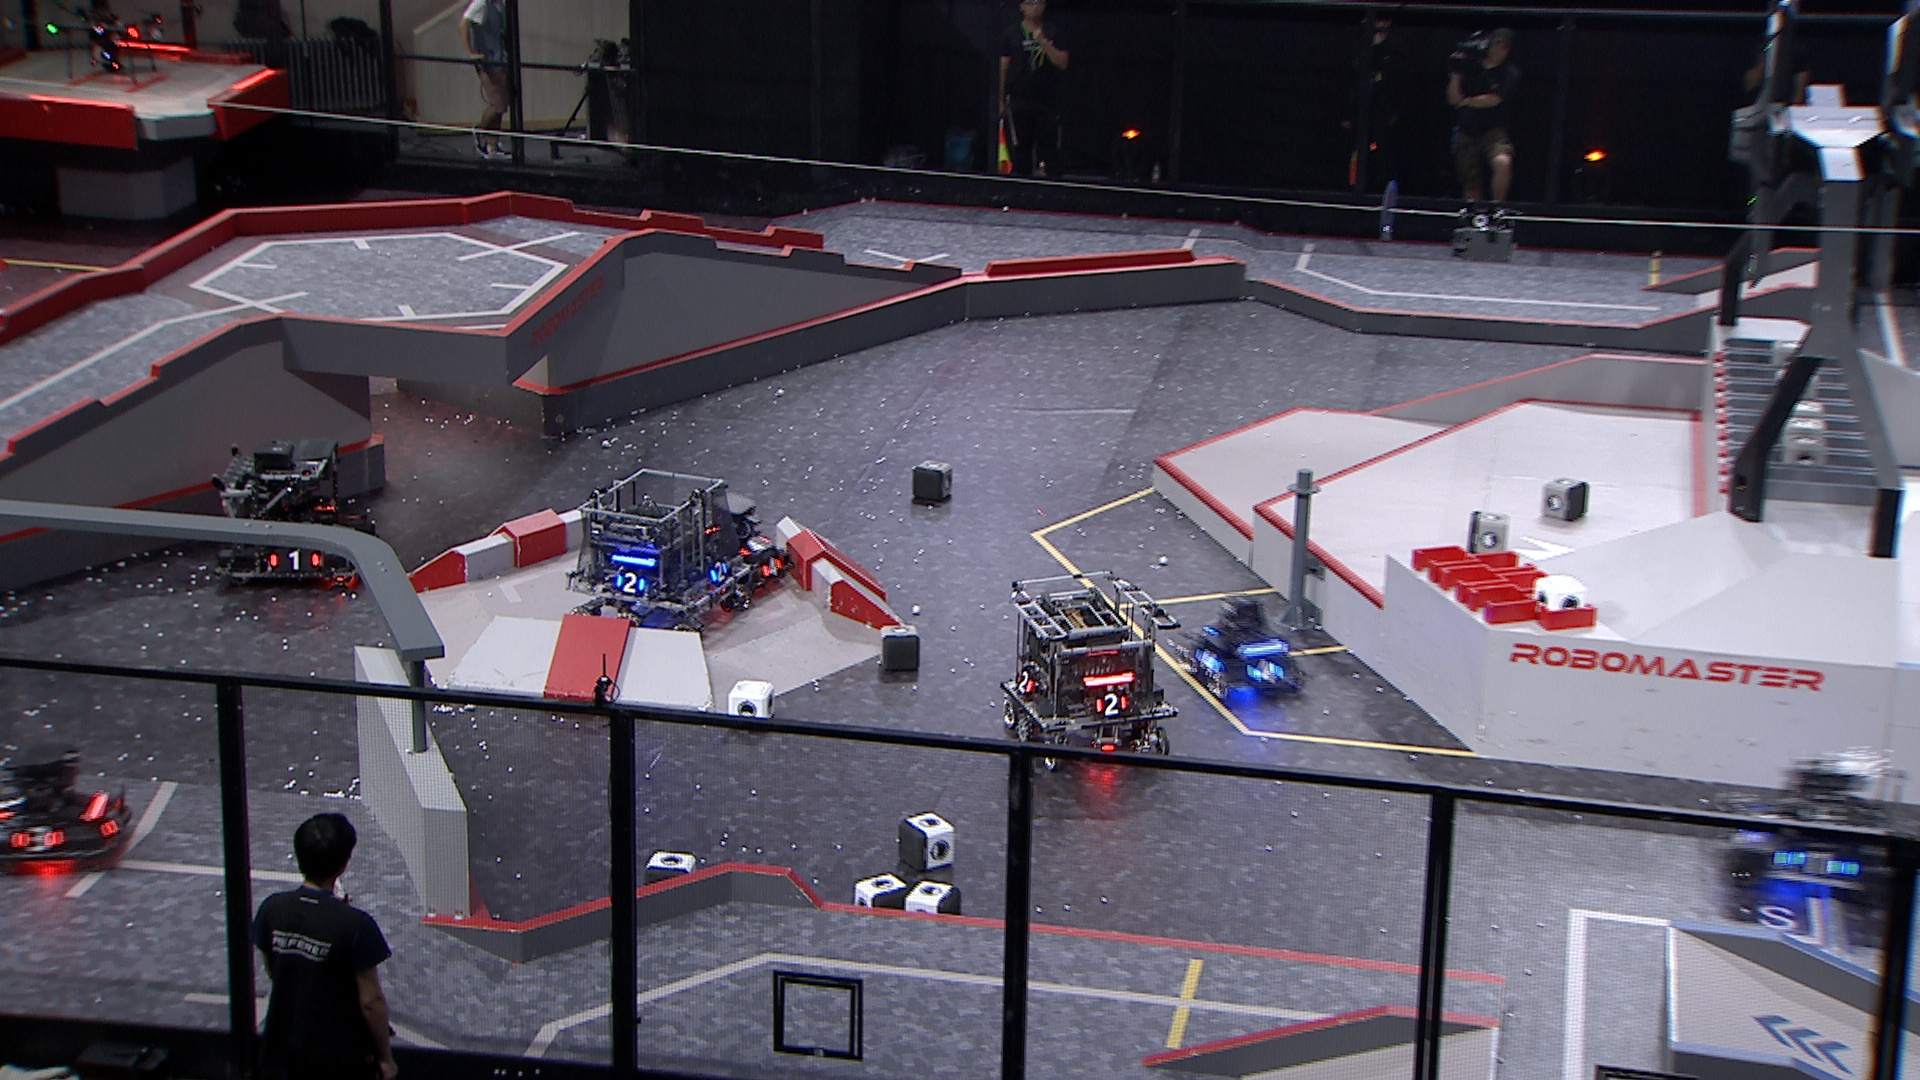armor: (1775, 845, 1859, 882), (8, 825, 65, 855), (266, 546, 320, 574), (1244, 659, 1287, 684), (1093, 690, 1127, 717), (1193, 646, 1222, 676), (737, 533, 773, 556), (615, 572, 647, 595), (1015, 669, 1036, 699), (760, 556, 783, 579), (709, 560, 731, 585)
car: (1000, 568, 1182, 773), (1713, 750, 1911, 930), (566, 469, 756, 637), (208, 440, 372, 589), (1168, 597, 1307, 703), (670, 491, 793, 603)
